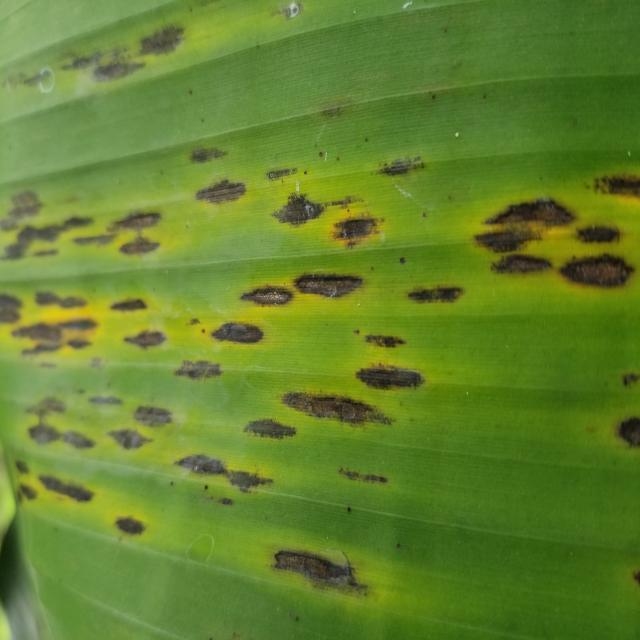Early_rust: (0, 10, 640, 611)
